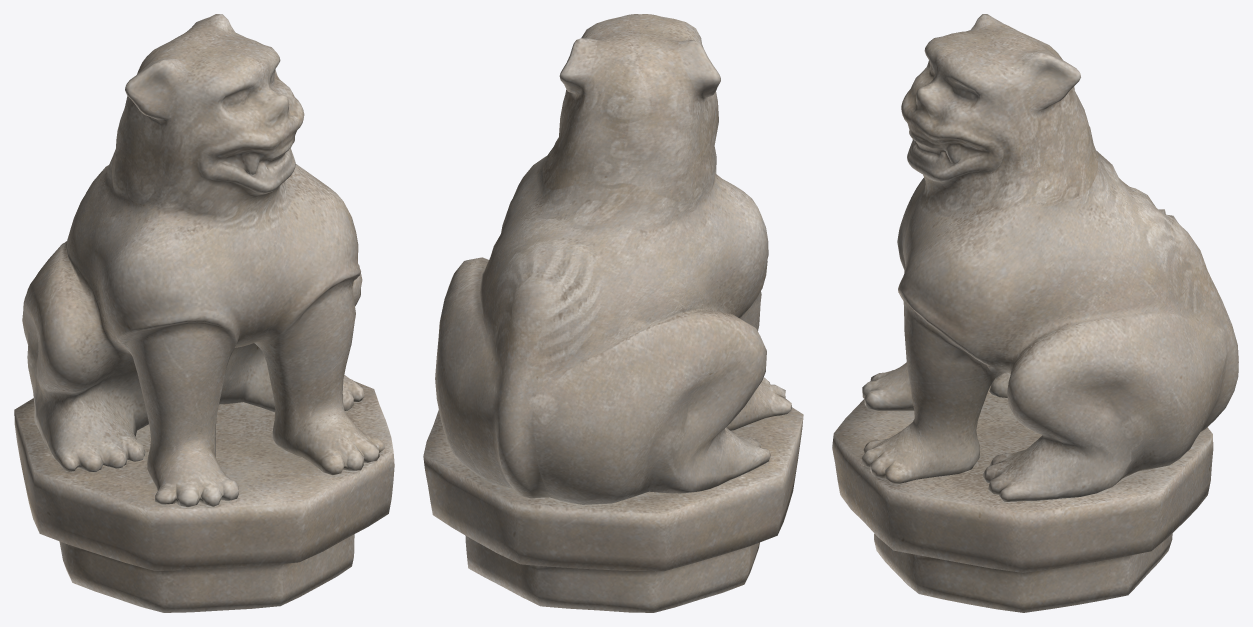
3 views of the same model, side by side, from view 1: azimuth 30°, elevation 25°; view 2: azimuth 150°, elevation 25°; view 3: azimuth 270°, elevation 25° (orthographic). The views are drawn at different scales.
Parts seen in each view (by area): view 1: SM_24HO0011_low; view 2: SM_24HO0011_low; view 3: SM_24HO0011_low.
Boxes of the visible parts, x1=… form: SM_24HO0011_low: x1=14, y1=14, x2=394, y2=612; SM_24HO0011_low: x1=423, y1=14, x2=803, y2=612; SM_24HO0011_low: x1=832, y1=14, x2=1238, y2=612.
Size of the model in its own units: 56.23 by 82.27 by 59.4.
